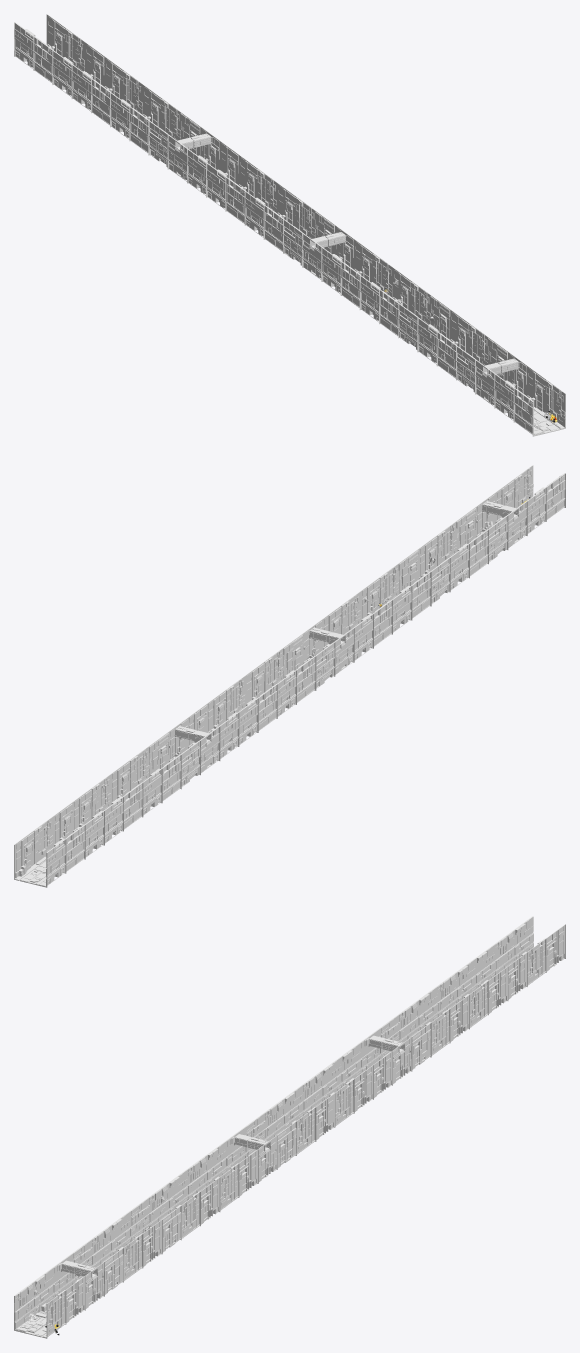
The model's file is tunnel.glb.
3 views of the same model, one above another, from view 1: azimuth 30°, elevation 25°; view 2: azimuth 150°, elevation 25°; view 3: azimuth 330°, elevation 25° (orthographic).
Parts seen in each view (by area): view 1: trench_1, trench_3.003, trench_3.002, trench_3.000, trench_2.004, trench_1.004, trench_1.008, trench_1.007, trench_1.003, trench_1.001, trench_2.001, trench_1.012 (+15 smaller); view 2: trench_2.014, trench_3.000, trench_3.003, trench_3.002, trench_1.012, trench_2.006, trench_1.004, trench_2.003, trench_1.008, trench_1.001, trench_4.005, trench_1 (+15 smaller); view 3: trench_1, trench_3.002, trench_3.003, trench_3.000, trench_2.004, trench_1.008, trench_1.007, trench_1.004, trench_2.001, trench_1.012, trench_1.001, trench_1.003 (+15 smaller).
Part boxes in pixels (bbox=[...]): trench_1: bbox=[513, 380, 565, 436]; trench_3.003: bbox=[302, 225, 354, 279]; trench_3.002: bbox=[475, 351, 527, 408]; trench_3.000: bbox=[168, 126, 219, 181]; trench_2.004: bbox=[494, 366, 546, 422]; trench_1.004: bbox=[436, 323, 488, 380]; trench_1.008: bbox=[340, 253, 392, 309]; trench_1.007: bbox=[263, 197, 315, 253]; trench_1.003: bbox=[129, 98, 181, 155]; trench_1.001: bbox=[225, 169, 277, 223]; trench_2.001: bbox=[71, 56, 123, 112]; trench_1.012: bbox=[33, 28, 85, 82]; trench_2.014: bbox=[14, 831, 66, 887]; trench_3.000: bbox=[168, 718, 220, 775]; trench_3.003: bbox=[302, 620, 354, 676]; trench_3.002: bbox=[475, 493, 527, 547]; trench_1.012: bbox=[33, 817, 85, 873]; trench_2.006: bbox=[360, 577, 412, 634]; trench_1.004: bbox=[437, 521, 488, 577]; trench_2.003: bbox=[110, 760, 162, 815]; trench_1.008: bbox=[341, 592, 392, 648]; trench_1.001: bbox=[225, 676, 277, 732]; trench_4.005: bbox=[398, 549, 450, 606]; trench_1: bbox=[514, 465, 565, 519]; trench_1: bbox=[14, 1282, 65, 1338]; trench_3.002: bbox=[52, 1253, 104, 1310]; trench_3.003: bbox=[225, 1127, 277, 1182]; trench_3.000: bbox=[360, 1028, 411, 1083]; trench_2.004: bbox=[33, 1268, 85, 1324]; trench_1.008: bbox=[187, 1155, 239, 1211]; trench_1.007: bbox=[264, 1099, 316, 1155]; trench_1.004: bbox=[91, 1225, 143, 1282]; trench_2.001: bbox=[456, 958, 508, 1014]; trench_1.012: bbox=[494, 930, 546, 986]; trench_1.001: bbox=[302, 1071, 354, 1126]; trench_1.003: bbox=[398, 1000, 450, 1057].
Size of the model in its own units: 13.8 by 13.36 by 341.
27 materials, 1 textured.
